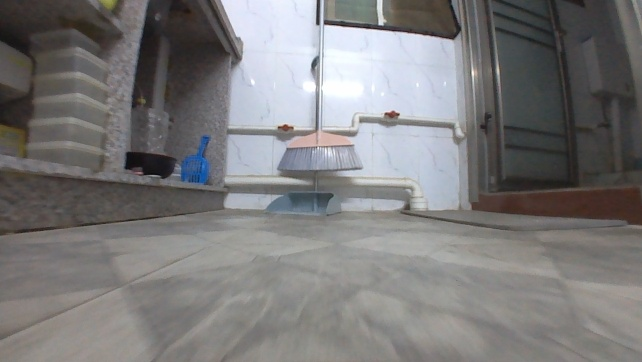blanket: (397, 203, 632, 235)
door_anno: (457, 0, 581, 205)
